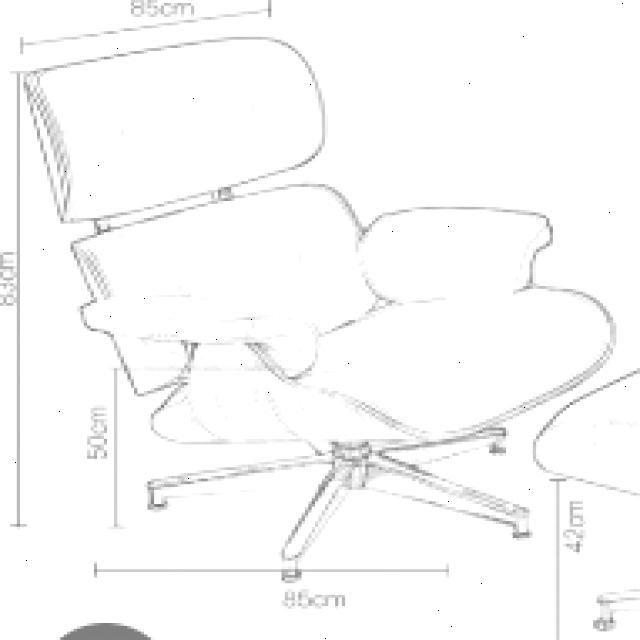Backrest: (66, 182, 381, 398)
Eames_base: (137, 449, 544, 584)
Eames_lounge: (79, 291, 324, 384), (355, 205, 556, 305)
Headrest: (14, 32, 328, 235)
Seat: (147, 284, 619, 448)
